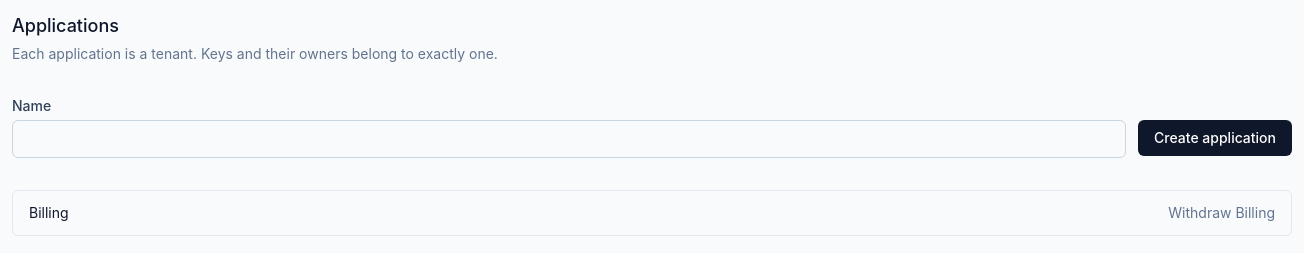
Scenario: withdraws an application and refreshes the list
The image size is (1304, 253).
Click the button "Withdraw Billing" at coordinates (1222, 213), box [1168, 203, 1275, 223]
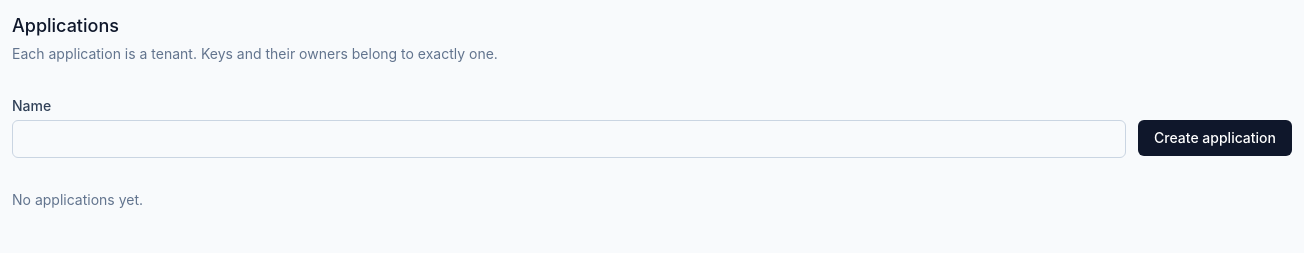
Expected: the text "No applications yet." is shown, [12, 191, 143, 208]
